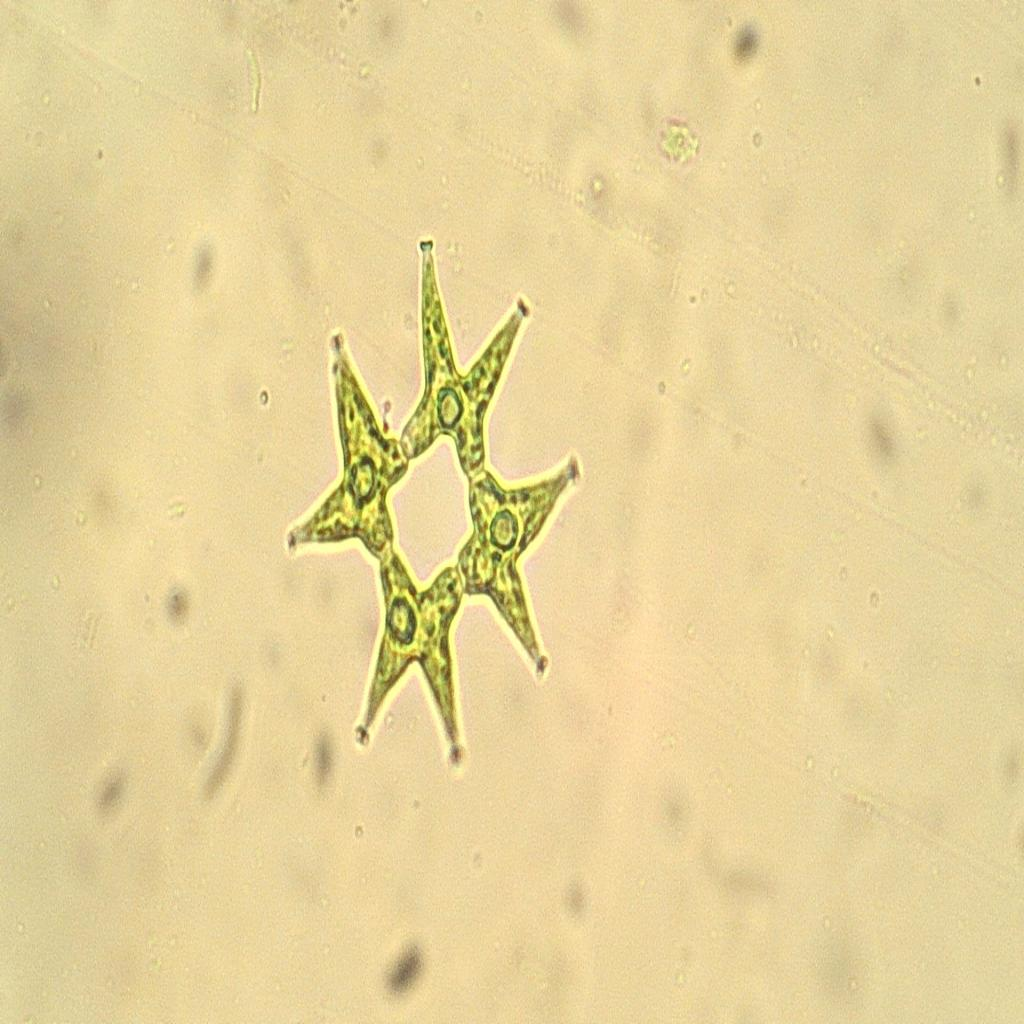Pediastrum_10: (277, 210, 589, 796)
